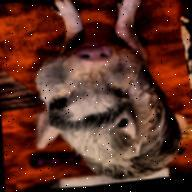boar: (22, 0, 185, 191)
